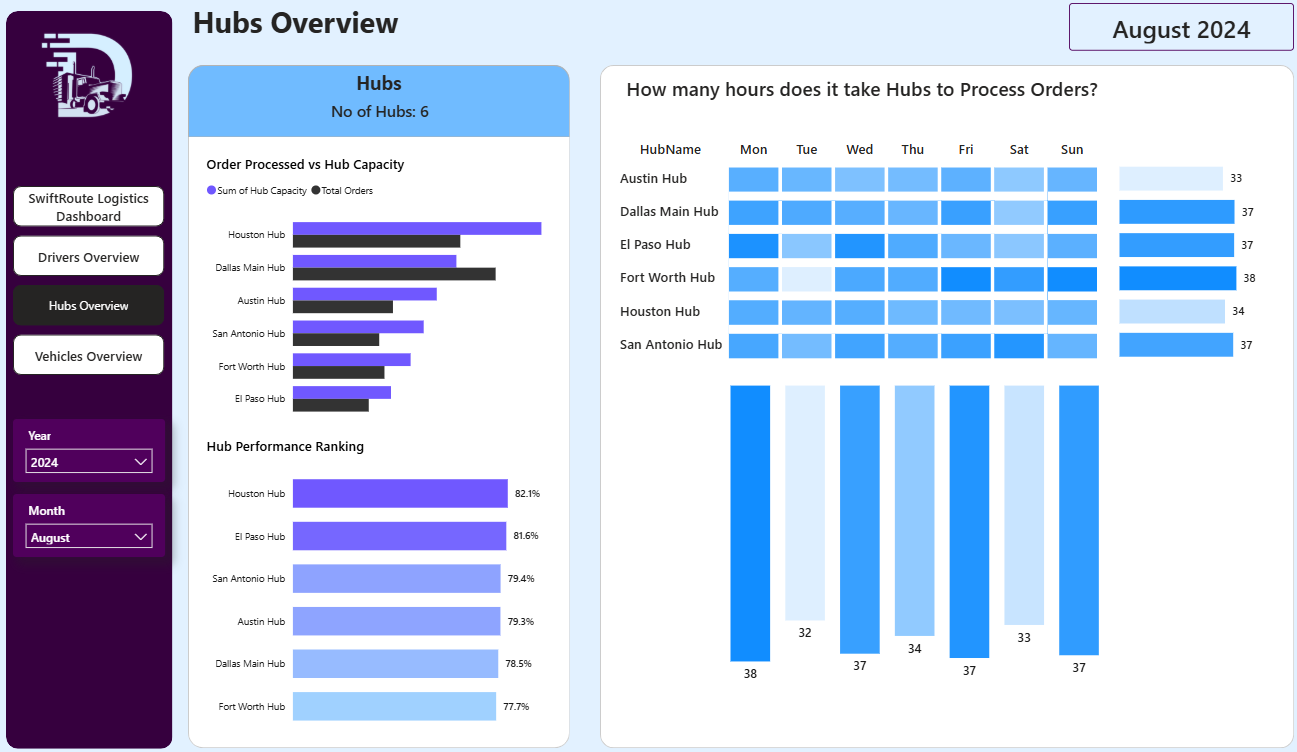

What the dashboard file says about the page in this screenshot:
{"tool":"powerbi","page":{"name":"Hubs Overview","canvas":[1450,850],"ordinal":2},"visuals":[{"type":"shape","box":[7.7,15.4,185.1,819.8],"z":0},{"type":"textbox","box":[210.4,0,498,56.2],"z":1000},{"type":"slicer","fields":{"Values":["Date Table.Year"]},"box":[15.4,468.4,168.6,70],"z":2000},{"type":"slicer","fields":{"Values":["Date Table.Month"]},"box":[15.4,552.1,168.6,70],"z":3000},{"type":"shape","box":[210.4,76,424.2,759.2],"z":4000},{"type":"shape","box":[210.4,76,424.2,80.4],"z":5000},{"type":"textbox","box":[210.4,76,424.2,40.8],"z":6000},{"type":"cardVisual","fields":{"Data":["Hubs.No of Hubs"]},"box":[317.3,109.1,211.6,30.9],"z":7000},{"type":"clusteredBarChart","title":"Order Processed vs Hub Capacity","fields":{"Category":["Hubs.HubName"],"Y":["Sum(Hubs.Hub Capacity)","Orders.Total Orders"]},"box":[225.9,175.2,396.7,305.2],"z":8000},{"type":"barChart","title":"Hub Performance Ranking","fields":{"Category":["Hubs.HubName"],"Y":["Orders.On Time Delivery Rate"]},"box":[225.9,489.2,396.7,340.5],"z":9000},{"type":"image","box":[33.1,29.7,131.1,122.3],"z":10000},{"type":"cardVisual","fields":{"Data":["Orders.Year Month Title"]},"box":[1188.9,6.7,250,53.3],"z":11000},{"type":"shape","box":[667.7,76,771.3,759.2],"z":12000},{"type":"pivotTable","fields":{"Rows":["Hubs.HubName"],"Columns":["Date Table.Day"],"Values":["Orders.Avg Delivery Time (Hrs)"]},"box":[679.8,152.1,548.7,273.3],"z":13000},{"type":"columnChart","fields":{"Category":["Date Table.Day"],"Y":["Orders.Avg Delivery Time (Hrs)"]},"box":[807.6,417.6,420.9,351.5],"z":14000},{"type":"barChart","fields":{"Category":["Hubs.HubName"],"Y":["Orders.Avg Delivery Time (Hrs)"]},"box":[1239.6,175.2,199.4,230.3],"z":15000},{"type":"cardVisual","fields":{"Data":["Hubs.Hub Title"]},"box":[679.8,76,660,48.5],"z":16000},{"type":"pageNavigator","box":[15.4,210.4,168.6,212.7],"z":17000}]}

Visuals, with their boxes in screenshot pixels (x1, y1, x2, y2), scaled from the page's 1450x850 canvas onto the 1297x752 screenshot:
shape: box=[7, 14, 172, 739]
textbox: box=[188, 0, 634, 50]
slicer - Date Table.Year: box=[14, 414, 165, 476]
slicer - Date Table.Month: box=[14, 488, 165, 550]
shape: box=[188, 67, 568, 739]
shape: box=[188, 67, 568, 138]
textbox: box=[188, 67, 568, 103]
cardVisual - Hubs.No of Hubs: box=[284, 97, 473, 124]
"Order Processed vs Hub Capacity" clusteredBarChart: box=[202, 155, 557, 425]
"Hub Performance Ranking" barChart: box=[202, 433, 557, 734]
image: box=[30, 26, 147, 134]
cardVisual - Orders.Year Month Title: box=[1063, 6, 1287, 53]
shape: box=[597, 67, 1287, 739]
pivotTable - Hubs.HubName x Date Table.Day: box=[608, 135, 1099, 376]
columnChart - Date Table.Day x Orders.Avg Delivery Time (Hrs): box=[722, 369, 1099, 680]
barChart - Hubs.HubName x Orders.Avg Delivery Time (Hrs): box=[1109, 155, 1287, 359]
cardVisual - Hubs.Hub Title: box=[608, 67, 1198, 110]
pageNavigator: box=[14, 186, 165, 374]
